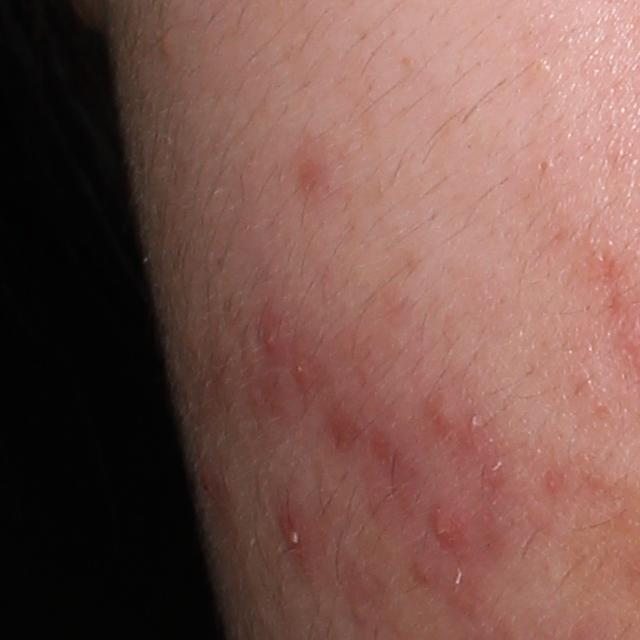papule: (276, 512, 308, 560), (425, 507, 463, 546), (261, 325, 289, 355)
